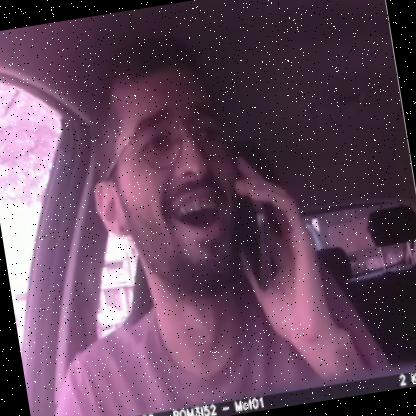phone: (216, 147, 288, 297)
